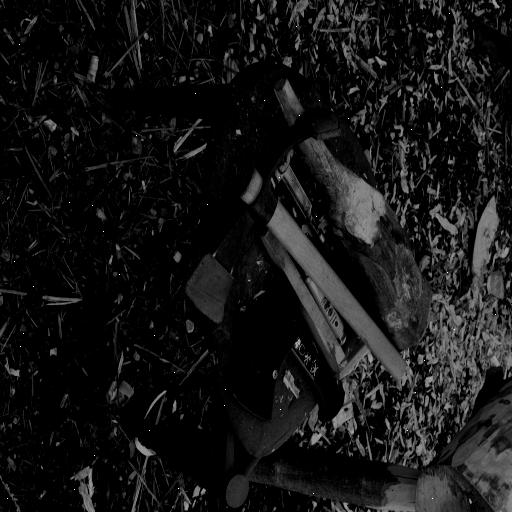Axe: (188, 109, 408, 390)
